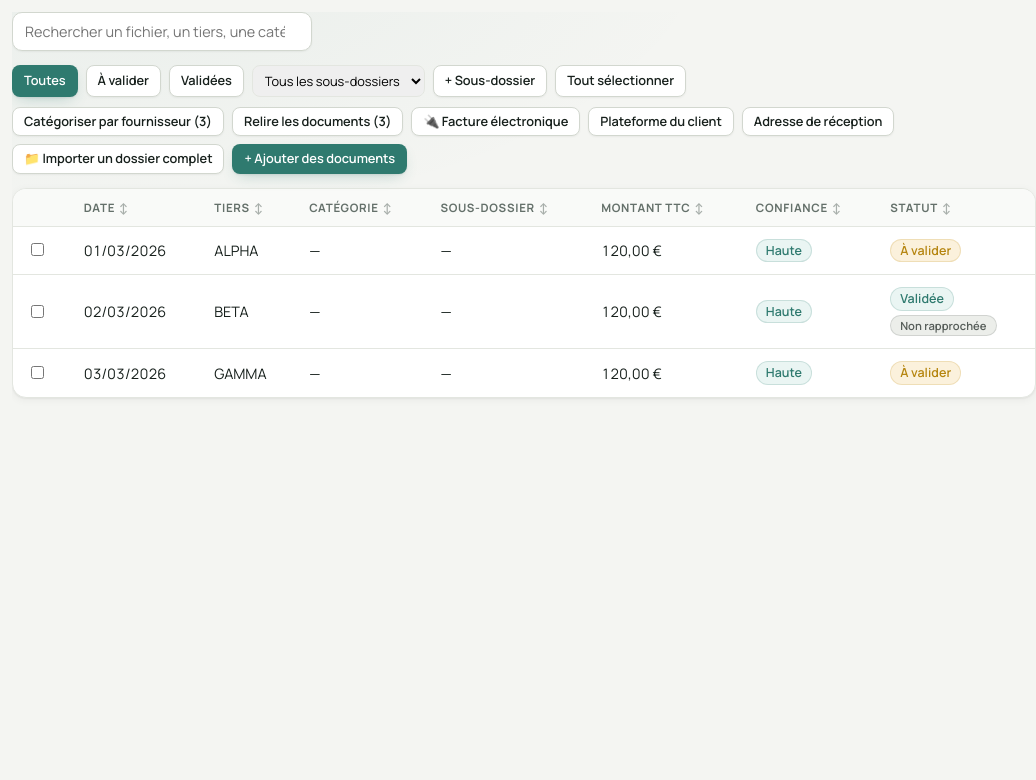
PiecesTab — la fiche d’une pièce dans le panneau de droite › « précédent » et « suivant » parcourent la liste affichée, et s’arrêtent à ses bouts
Step 1. Click the text "BETA" → x=248, y=312, box [200, 275, 295, 349]
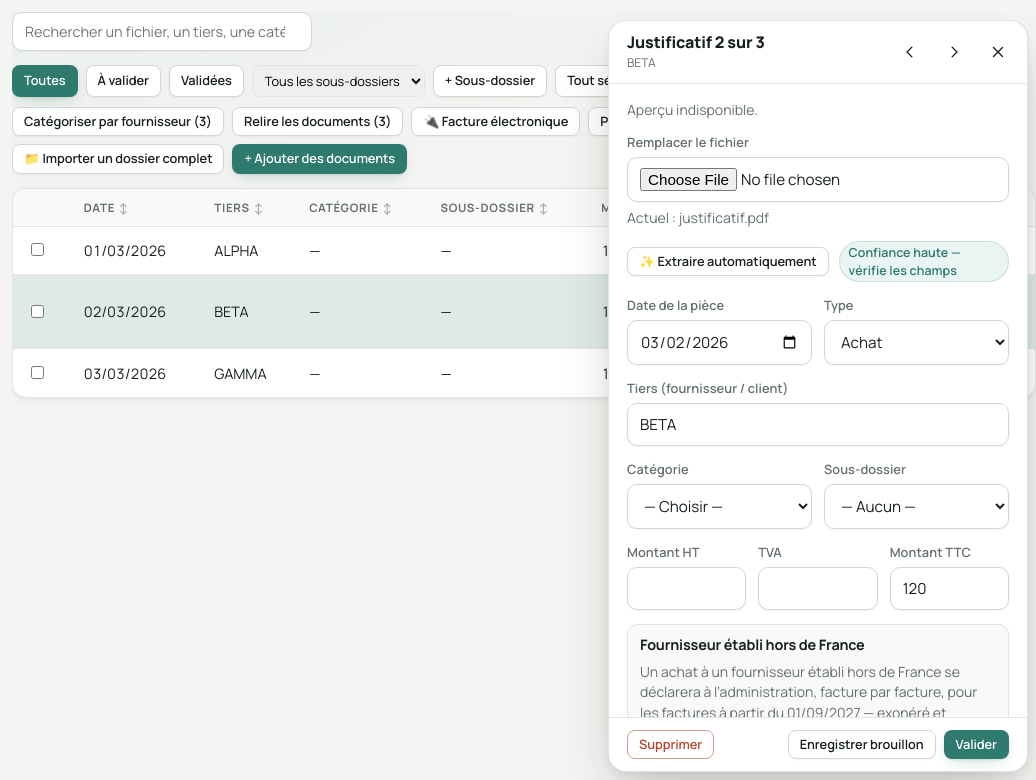
Step 2. Click the button named "Justificatif suivant" → x=954, y=52, box [937, 35, 971, 69]
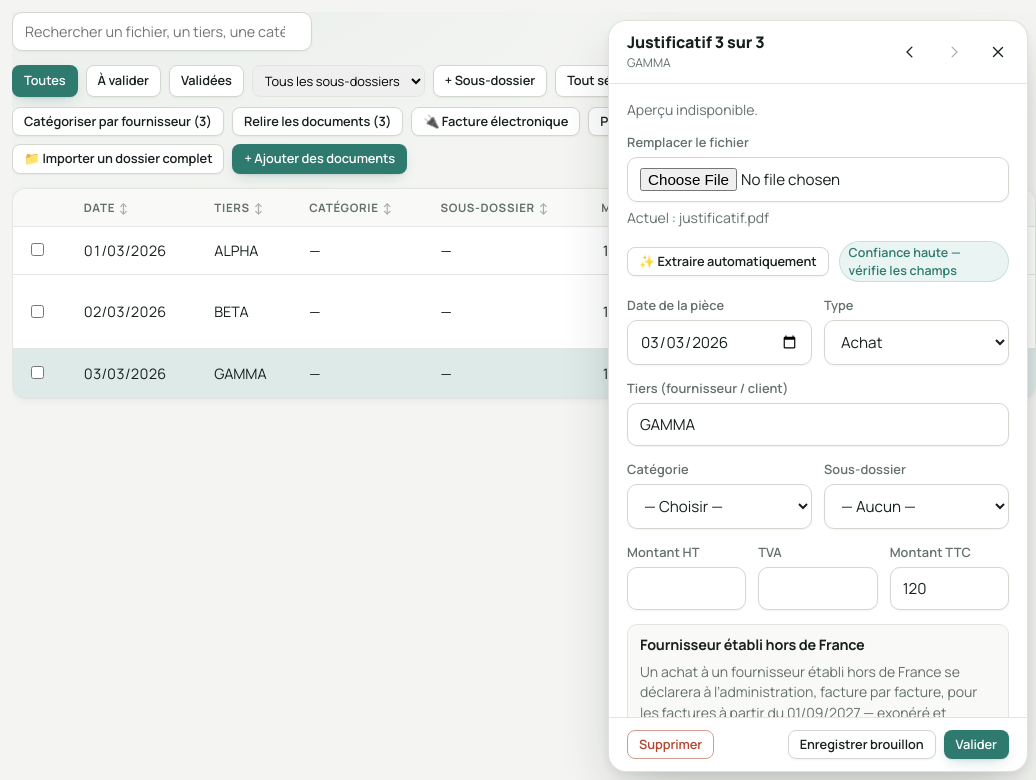
Expected: the heading "Justificatif 3 sur 3" is shown, [627, 31, 764, 53]
Expected: the button named "Justificatif suivant" is disabled, [937, 35, 971, 69]
Step 3. Click the button named "Justificatif précédent" → x=910, y=52, box [893, 35, 927, 69]
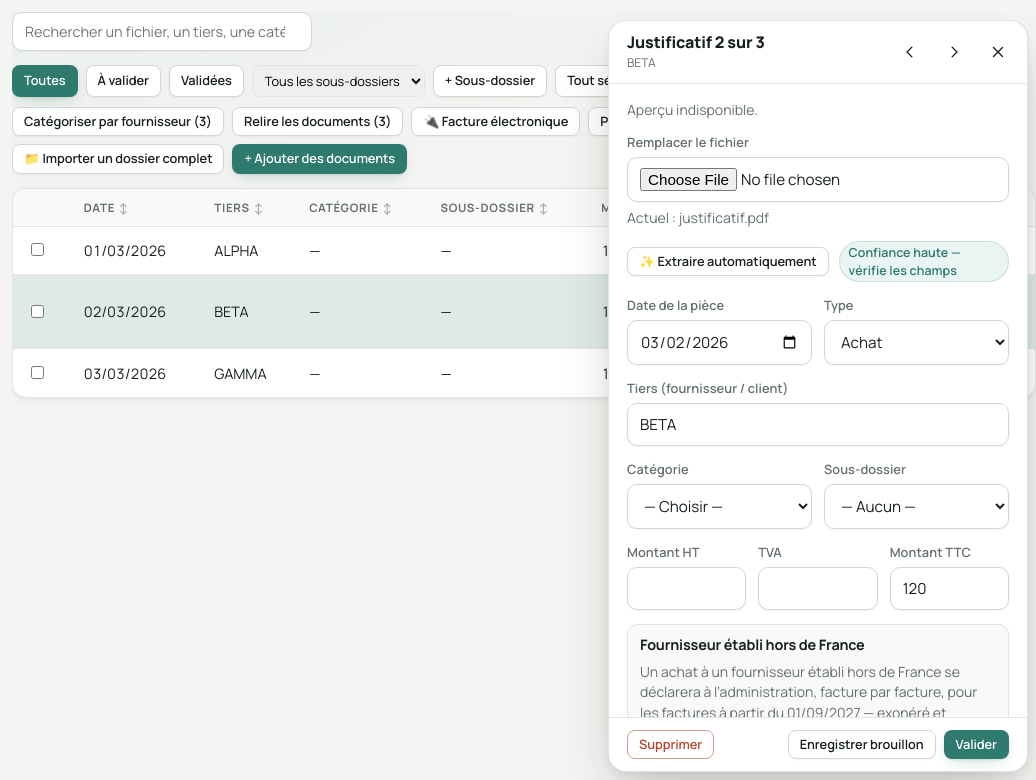
Step 4. Click the button named "Justificatif précédent" → x=910, y=52, box [893, 35, 927, 69]
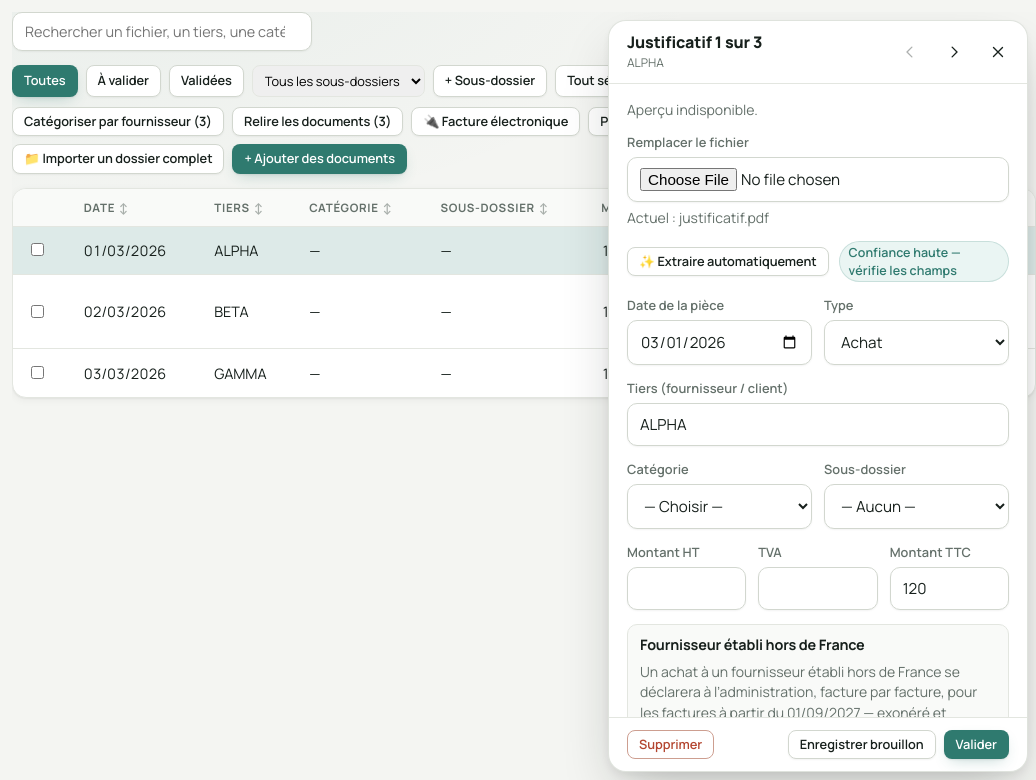
Expected: the heading "Justificatif 1 sur 3" is shown, [627, 31, 762, 53]
Expected: the button named "Justificatif précédent" is disabled, [893, 35, 927, 69]
